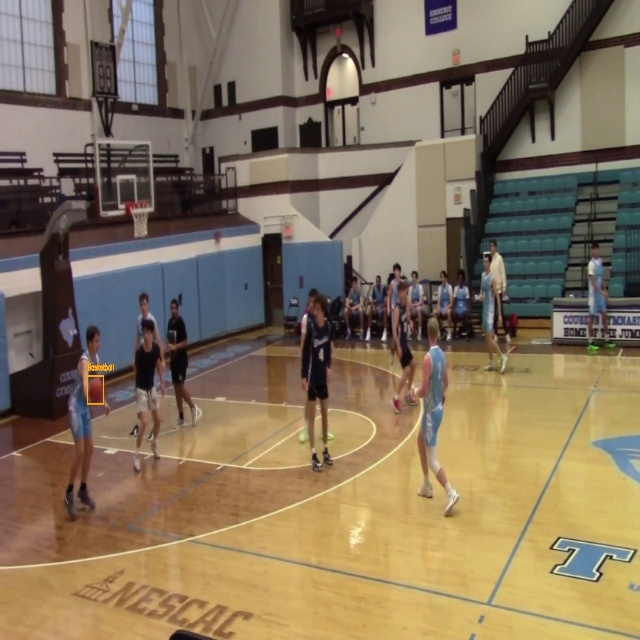Basketball: (88, 376, 104, 404)
